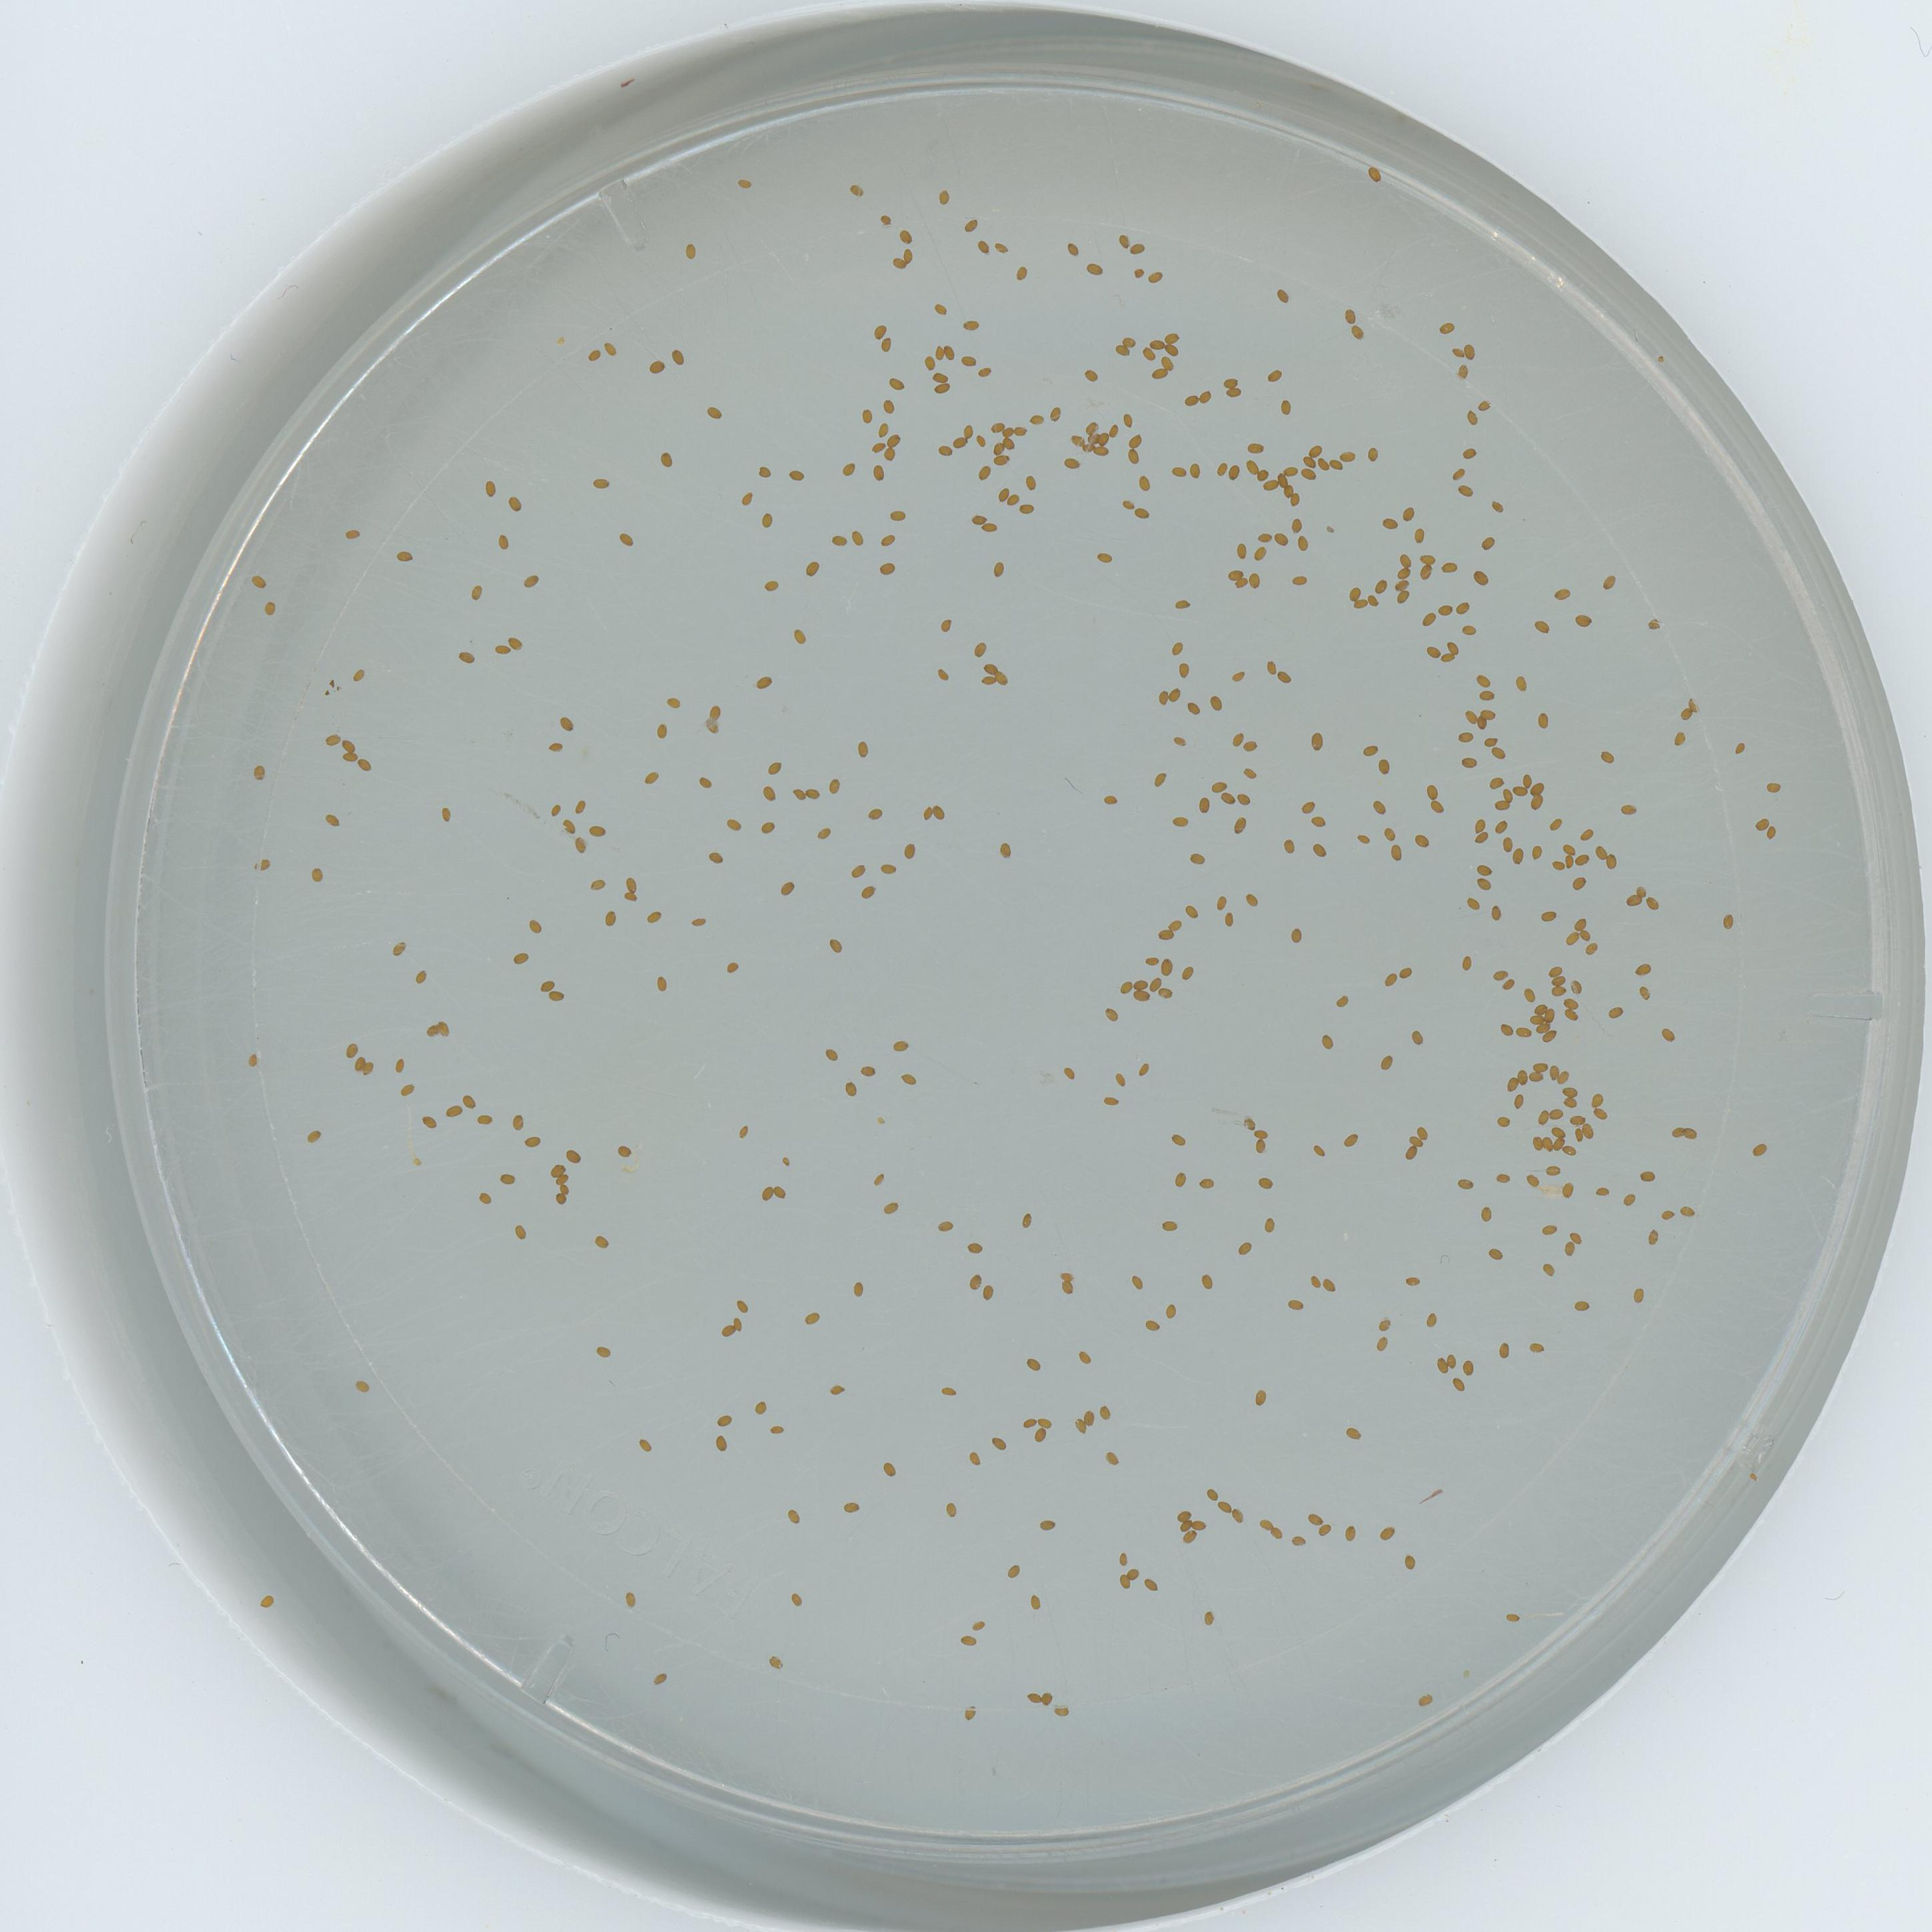seed: (1157, 955, 1177, 978), (249, 764, 271, 784), (563, 1146, 582, 1166), (1306, 731, 1325, 750), (1373, 755, 1392, 775), (1309, 840, 1329, 860), (1265, 366, 1284, 386), (1568, 978, 1587, 998), (1635, 961, 1654, 980), (860, 407, 878, 428), (869, 322, 890, 340), (1159, 354, 1177, 375), (961, 317, 982, 334), (966, 1272, 984, 1293), (959, 1633, 980, 1651), (888, 372, 908, 389), (881, 396, 899, 416), (556, 715, 575, 732), (803, 559, 823, 577), (504, 494, 524, 511), (713, 1433, 732, 1451), (1180, 902, 1200, 920), (1085, 260, 1104, 278), (1470, 568, 1490, 586), (1435, 602, 1454, 619), (1458, 954, 1476, 973), (1173, 662, 1192, 679), (1523, 1171, 1541, 1191), (242, 1051, 262, 1069), (1366, 166, 1384, 186), (1401, 1145, 1422, 1161), (1537, 1028, 1560, 1042), (901, 842, 918, 860), (708, 849, 725, 867), (755, 672, 773, 690), (780, 879, 798, 897), (897, 226, 915, 244), (826, 936, 844, 954), (561, 817, 579, 835), (706, 402, 724, 419), (855, 741, 872, 759), (602, 909, 619, 927), (593, 474, 610, 492), (648, 356, 665, 373), (791, 628, 809, 646), (524, 1131, 541, 1148), (786, 1507, 803, 1525), (510, 1113, 527, 1131), (593, 1231, 610, 1249), (1207, 694, 1224, 711), (1539, 906, 1557, 924), (1385, 844, 1403, 862), (1230, 816, 1247, 833), (1361, 741, 1378, 759), (1246, 439, 1263, 456), (1456, 479, 1474, 497), (1276, 398, 1293, 416), (1571, 874, 1589, 892), (1081, 366, 1099, 384), (1194, 796, 1212, 814), (1414, 832, 1431, 849), (1299, 798, 1316, 816), (1369, 798, 1387, 816), (1242, 456, 1260, 474), (1660, 1023, 1677, 1040), (1256, 1173, 1274, 1191), (1251, 1387, 1269, 1405), (1341, 1132, 1359, 1150), (1017, 1210, 1035, 1228), (1683, 1122, 1700, 1139), (1056, 1281, 1074, 1299), (435, 1021, 453, 1039), (667, 349, 686, 364), (508, 633, 524, 653), (587, 823, 607, 839), (761, 786, 780, 801), (920, 354, 939, 370), (1408, 527, 1428, 543), (1578, 826, 1598, 842), (1486, 773, 1506, 789), (1419, 612, 1438, 628), (1573, 612, 1592, 628), (1208, 895, 1228, 911), (1532, 617, 1552, 633), (1164, 343, 1184, 359), (957, 354, 977, 370), (1178, 962, 1194, 982), (980, 1284, 996, 1304), (1230, 1507, 1246, 1527), (1522, 985, 1537, 1005), (1568, 1115, 1587, 1131), (1559, 1085, 1578, 1100), (1488, 970, 1513, 982), (879, 862, 897, 878), (890, 506, 908, 522), (867, 805, 885, 821), (860, 885, 878, 901), (787, 467, 805, 483), (759, 511, 777, 527), (511, 948, 529, 964), (602, 340, 619, 356), (826, 778, 844, 794), (522, 571, 540, 587), (389, 941, 407, 957), (879, 561, 897, 577), (832, 533, 849, 548), (870, 464, 888, 479), (757, 464, 775, 479), (653, 724, 671, 740), (945, 343, 961, 361), (495, 533, 513, 548), (356, 757, 373, 773), (642, 770, 660, 786), (768, 759, 786, 775), (547, 740, 564, 755), (322, 812, 340, 828), (483, 479, 499, 497), (324, 731, 341, 747), (936, 442, 954, 458), (308, 867, 326, 883), (878, 336, 895, 352), (725, 817, 743, 833), (249, 573, 267, 589), (683, 242, 701, 258), (255, 858, 272, 874), (901, 1069, 918, 1085), (462, 1093, 478, 1111), (499, 1168, 515, 1185), (883, 1198, 901, 1214), (803, 1309, 821, 1325), (823, 1047, 840, 1063), (844, 1499, 862, 1514), (474, 1109, 492, 1125), (842, 1081, 860, 1097), (881, 1461, 899, 1477), (938, 1217, 955, 1233), (476, 1187, 494, 1203), (892, 1039, 909, 1054), (343, 1042, 361, 1058), (446, 1100, 464, 1116), (623, 1591, 639, 1608), (423, 1023, 441, 1039), (1460, 623, 1477, 639), (1624, 893, 1642, 909), (970, 510, 987, 525), (1476, 862, 1493, 878), (1125, 432, 1143, 448), (1394, 591, 1412, 607), (1281, 839, 1299, 855), (1272, 531, 1290, 547), (1440, 559, 1458, 575), (1187, 851, 1205, 867), (989, 561, 1007, 577), (1166, 686, 1184, 702), (1120, 334, 1138, 350), (1251, 545, 1269, 561), (1766, 778, 1783, 794), (1339, 448, 1357, 464), (1150, 771, 1168, 787), (1274, 288, 1292, 304), (1012, 264, 1030, 280), (1306, 442, 1323, 458), (1599, 575, 1617, 591), (1438, 318, 1456, 334), (1399, 504, 1417, 520), (1477, 688, 1495, 704), (1173, 596, 1191, 612), (1396, 552, 1414, 568), (1171, 812, 1189, 828), (1019, 501, 1035, 518), (1529, 844, 1545, 862), (1226, 464, 1244, 479), (1454, 364, 1472, 380), (1491, 817, 1509, 833), (1576, 853, 1594, 869), (1753, 816, 1771, 832), (1380, 515, 1398, 531), (1553, 586, 1571, 602), (1230, 669, 1247, 685), (1529, 796, 1546, 812), (1534, 713, 1552, 729), (1155, 927, 1173, 943), (1166, 915, 1184, 931), (1235, 791, 1253, 807), (1134, 474, 1152, 490), (1461, 755, 1479, 771), (1463, 341, 1479, 359), (1670, 731, 1688, 747), (1345, 584, 1362, 600), (1474, 878, 1491, 893), (1419, 550, 1437, 566), (1166, 640, 1184, 656), (1513, 676, 1530, 692), (971, 640, 989, 656), (1021, 474, 1039, 490), (1242, 893, 1260, 909), (1371, 577, 1389, 593), (1184, 701, 1201, 717), (1631, 885, 1649, 901), (1592, 844, 1608, 862), (996, 842, 1014, 858), (1456, 729, 1474, 745), (1348, 324, 1366, 340), (1123, 448, 1141, 464), (1516, 771, 1534, 787), (1548, 858, 1566, 874), (966, 1238, 984, 1254), (1541, 1219, 1559, 1235), (1444, 1352, 1460, 1369), (1527, 1338, 1545, 1353), (1005, 1562, 1021, 1580), (1332, 993, 1350, 1008), (1024, 1355, 1042, 1371), (1378, 1054, 1394, 1072), (1316, 1522, 1334, 1537), (1378, 1525, 1396, 1541), (1030, 1428, 1047, 1444), (1621, 1191, 1638, 1207), (1345, 1424, 1362, 1440), (1115, 1550, 1131, 1568), (1640, 1166, 1656, 1184), (1198, 1272, 1215, 1288), (1341, 1525, 1359, 1541), (1405, 1272, 1422, 1288), (1141, 1576, 1159, 1592), (1679, 1201, 1697, 1217), (1422, 1311, 1440, 1327), (1449, 1376, 1467, 1392), (1318, 1031, 1336, 1047), (1550, 1104, 1568, 1120), (1431, 1355, 1447, 1373), (1456, 1175, 1474, 1191), (1509, 1092, 1527, 1108), (970, 1619, 987, 1635), (1051, 1704, 1069, 1720), (1460, 1359, 1477, 1375), (1322, 1276, 1338, 1293), (1408, 1028, 1426, 1044), (1141, 1316, 1159, 1332), (1171, 1169, 1187, 1187), (1037, 1516, 1054, 1532), (1286, 1295, 1304, 1311), (1589, 1090, 1606, 1106), (966, 1451, 984, 1467), (1235, 1238, 1253, 1254), (1102, 1005, 1120, 1021), (1200, 1610, 1217, 1626), (1497, 1341, 1514, 1357), (1407, 1131, 1424, 1146), (258, 1594, 276, 1610), (883, 448, 899, 464), (881, 533, 897, 548), (591, 878, 607, 893), (888, 432, 904, 448), (938, 617, 954, 633), (617, 531, 633, 547), (646, 908, 662, 924), (736, 175, 752, 191), (817, 826, 833, 842), (571, 800, 587, 816), (851, 863, 867, 879), (527, 918, 543, 934), (586, 347, 602, 363), (842, 460, 858, 476), (345, 525, 361, 541), (697, 775, 713, 791), (764, 577, 780, 593), (469, 584, 485, 600), (876, 421, 892, 437), (936, 188, 952, 203), (708, 704, 724, 720), (932, 301, 948, 317), (437, 807, 453, 823), (623, 878, 639, 893), (658, 451, 674, 467), (571, 839, 587, 855), (901, 248, 916, 264), (396, 548, 412, 564), (952, 435, 968, 451), (262, 600, 278, 616), (617, 1141, 633, 1157), (941, 1500, 957, 1516), (862, 1062, 878, 1077), (637, 1437, 653, 1453), (734, 1297, 750, 1313), (773, 1182, 789, 1198), (421, 1115, 437, 1131), (306, 1129, 322, 1145), (391, 1056, 407, 1072), (872, 1169, 888, 1185), (759, 1184, 775, 1200), (513, 1223, 529, 1238), (354, 1378, 370, 1394), (789, 1591, 805, 1606), (653, 1670, 669, 1686), (768, 1654, 784, 1670), (1182, 391, 1198, 407), (1645, 895, 1661, 911), (1490, 499, 1506, 515), (1465, 895, 1481, 911), (1300, 467, 1316, 483), (1424, 782, 1440, 798), (1382, 826, 1398, 842), (1355, 832, 1371, 847), (1150, 366, 1166, 382), (1102, 793, 1118, 809), (1605, 855, 1621, 870), (1261, 658, 1277, 674), (1288, 925, 1304, 941), (1115, 232, 1131, 248), (977, 464, 993, 479), (1720, 913, 1736, 929), (1488, 904, 1504, 920), (993, 241, 1008, 257), (1214, 462, 1230, 478), (1146, 269, 1162, 285), (1479, 534, 1495, 550), (1573, 915, 1589, 931), (1026, 410, 1042, 426), (1341, 306, 1357, 322), (1247, 571, 1263, 587), (1364, 446, 1380, 462), (1511, 849, 1527, 865), (1290, 571, 1306, 587), (1171, 734, 1187, 750), (1242, 766, 1258, 782), (1424, 642, 1440, 658), (1228, 732, 1244, 748), (1129, 241, 1145, 257), (1187, 462, 1203, 478), (1476, 396, 1491, 412), (1219, 911, 1235, 927), (1309, 814, 1325, 830), (1428, 800, 1444, 816), (1621, 801, 1637, 817), (1445, 639, 1461, 655), (1438, 651, 1454, 667), (1764, 824, 1780, 840), (994, 487, 1010, 502), (1376, 1316, 1392, 1332), (1608, 1003, 1624, 1019), (1129, 1274, 1145, 1290), (1060, 1063, 1076, 1079), (1097, 1403, 1113, 1419), (1125, 1564, 1141, 1580), (1161, 1302, 1177, 1318), (1024, 1690, 1040, 1706), (1026, 1594, 1042, 1610), (991, 1433, 1007, 1449), (1401, 1553, 1417, 1569), (1645, 1228, 1661, 1244), (1076, 1348, 1092, 1364), (1541, 1260, 1557, 1276), (1516, 1023, 1532, 1039), (1258, 1516, 1274, 1532), (1495, 1111, 1511, 1127), (1039, 1690, 1054, 1706), (1495, 1169, 1511, 1185), (1373, 1334, 1389, 1350), (1573, 1297, 1589, 1313), (1111, 1070, 1127, 1086), (1479, 1207, 1495, 1223), (1102, 1092, 1118, 1108), (1499, 1021, 1514, 1037), (1560, 1182, 1576, 1198), (1488, 1246, 1504, 1261), (1198, 1173, 1214, 1189), (1631, 1286, 1647, 1302), (1506, 1076, 1522, 1092), (1752, 1141, 1767, 1157), (1306, 1272, 1322, 1288), (1261, 1215, 1277, 1231), (1134, 1062, 1150, 1077), (1661, 1205, 1677, 1221), (1161, 1215, 1177, 1231), (1546, 1063, 1562, 1079), (1534, 1111, 1550, 1127), (1529, 1136, 1545, 1152), (1513, 1069, 1529, 1085), (1670, 1123, 1686, 1139), (1557, 1069, 1573, 1085), (1417, 1691, 1433, 1707), (931, 345, 947, 361), (1686, 699, 1702, 715), (1532, 1000, 1548, 1016), (1242, 1115, 1258, 1131), (458, 649, 476, 663), (934, 380, 952, 395), (494, 644, 511, 658), (851, 531, 869, 545), (338, 738, 356, 752), (869, 439, 886, 453), (690, 915, 708, 929), (547, 989, 564, 1003), (717, 1412, 734, 1426), (596, 1345, 614, 1359), (830, 1382, 847, 1396), (364, 1060, 379, 1077), (724, 959, 741, 973), (980, 662, 998, 676), (1161, 331, 1178, 345), (1210, 778, 1228, 793), (1169, 464, 1187, 478), (980, 520, 998, 534), (1481, 734, 1499, 748), (1288, 518, 1306, 533), (1599, 750, 1617, 764), (1530, 782, 1548, 796), (1548, 817, 1566, 832), (1111, 343, 1129, 357), (1132, 506, 1150, 520), (1223, 377, 1240, 391), (1449, 467, 1467, 481), (1293, 536, 1311, 550), (1281, 464, 1299, 478), (1219, 791, 1237, 805), (1062, 456, 1079, 471), (1592, 1106, 1610, 1120), (1175, 1509, 1192, 1523), (1306, 1513, 1323, 1527), (1530, 1060, 1548, 1074), (1169, 1131, 1187, 1145), (1251, 1139, 1269, 1154), (1594, 1185, 1612, 1200), (1178, 1530, 1196, 1545), (1417, 1122, 1431, 1139), (1504, 1610, 1522, 1624), (1582, 1125, 1599, 1139), (1056, 1270, 1074, 1284), (1224, 386, 1244, 398), (1207, 1486, 1219, 1506), (1545, 1007, 1557, 1026), (934, 667, 950, 681), (547, 803, 563, 817), (918, 805, 932, 821), (740, 492, 755, 506), (761, 821, 777, 835), (350, 669, 366, 683), (932, 805, 947, 821), (791, 787, 807, 801), (807, 787, 823, 801), (665, 695, 681, 709), (623, 892, 639, 906), (879, 211, 893, 226), (849, 180, 863, 196), (851, 1281, 867, 1295), (400, 1081, 416, 1095), (412, 970, 428, 984), (540, 977, 556, 991), (754, 1399, 770, 1414), (770, 1422, 786, 1437), (736, 1123, 752, 1138), (731, 1316, 745, 1332), (720, 1323, 736, 1338), (1226, 566, 1242, 580), (1472, 817, 1488, 832), (980, 672, 996, 686), (1276, 671, 1292, 685), (1198, 389, 1214, 403), (1461, 709, 1477, 724), (1474, 832, 1490, 846), (1499, 837, 1514, 851), (1155, 690, 1169, 706), (1490, 747, 1506, 761), (1046, 407, 1062, 421), (1461, 446, 1477, 460), (1120, 412, 1136, 426), (1417, 566, 1433, 580), (975, 241, 991, 255), (1329, 458, 1345, 472), (1261, 478, 1277, 492), (1465, 409, 1479, 425), (1256, 529, 1272, 543), (1083, 423, 1099, 437), (1145, 954, 1161, 968), (1732, 741, 1748, 755), (1564, 931, 1578, 947), (1148, 338, 1164, 352), (1095, 550, 1111, 564), (1396, 566, 1412, 580), (1454, 600, 1470, 614), (989, 442, 1005, 456), (1474, 674, 1490, 688), (1242, 740, 1258, 754), (1233, 541, 1247, 557), (994, 671, 1010, 685), (1479, 708, 1495, 722), (1118, 497, 1134, 511), (977, 364, 993, 379), (1578, 929, 1594, 943), (1067, 432, 1083, 446), (1679, 708, 1693, 724), (1288, 494, 1304, 508), (1562, 998, 1578, 1012), (1037, 1414, 1053, 1428), (1215, 1500, 1231, 1514), (1545, 1162, 1560, 1177), (1398, 966, 1414, 980), (1021, 1414, 1037, 1428), (1115, 1575, 1131, 1589), (1290, 1532, 1306, 1546), (1157, 985, 1173, 1000), (1191, 1516, 1207, 1530), (1564, 1008, 1580, 1023), (1116, 980, 1132, 994), (1070, 1419, 1086, 1433), (1382, 971, 1398, 985), (1311, 1143, 1327, 1157), (1568, 1231, 1583, 1246), (1102, 1451, 1118, 1465), (1562, 1240, 1576, 1256), (1562, 1145, 1578, 1159), (1269, 1525, 1284, 1539), (1134, 989, 1150, 1003), (1562, 1095, 1578, 1109), (1146, 978, 1162, 993), (964, 1706, 978, 1721), (1281, 483, 1297, 497), (931, 372, 948, 384), (548, 1164, 566, 1177), (552, 1192, 570, 1205), (993, 453, 1010, 465), (1497, 787, 1514, 800), (1253, 1127, 1270, 1139), (1541, 1134, 1553, 1152), (554, 1173, 571, 1185), (1550, 1127, 1568, 1139), (892, 257, 906, 271), (655, 977, 669, 991), (941, 1382, 955, 1396), (352, 1058, 366, 1072), (989, 418, 1003, 432), (1007, 492, 1021, 506), (1001, 435, 1016, 449), (966, 218, 980, 232), (1065, 241, 1079, 255), (1366, 594, 1380, 609), (1106, 423, 1120, 437), (1449, 345, 1463, 359), (1562, 855, 1576, 869), (1014, 423, 1028, 437), (1513, 784, 1527, 798), (1647, 617, 1661, 632), (1552, 1136, 1566, 1150), (704, 722, 718, 736), (340, 752, 356, 764), (1560, 842, 1576, 855), (1093, 446, 1109, 458), (1352, 598, 1368, 610), (975, 433, 987, 449), (1495, 800, 1511, 812), (962, 425, 975, 441), (1276, 472, 1288, 488), (1177, 1520, 1192, 1532), (1500, 978, 1516, 991), (1536, 1023, 1552, 1035), (1550, 985, 1566, 998), (1548, 966, 1566, 977), (1315, 456, 1329, 469), (1233, 577, 1247, 589), (1300, 456, 1315, 469), (1141, 349, 1155, 361), (1587, 941, 1599, 955), (1476, 717, 1488, 731), (1638, 985, 1651, 1000), (1134, 977, 1146, 991), (1083, 1412, 1095, 1426), (1573, 1127, 1585, 1141), (1530, 1070, 1543, 1085), (1530, 1014, 1545, 1026), (1746, 1470, 1760, 1483), (1088, 432, 1100, 446), (1099, 432, 1111, 446), (1392, 579, 1408, 589), (1552, 977, 1568, 987), (1256, 469, 1269, 481), (1081, 441, 1093, 453), (1001, 425, 1014, 437), (559, 1185, 571, 1196), (780, 1155, 791, 1166)
